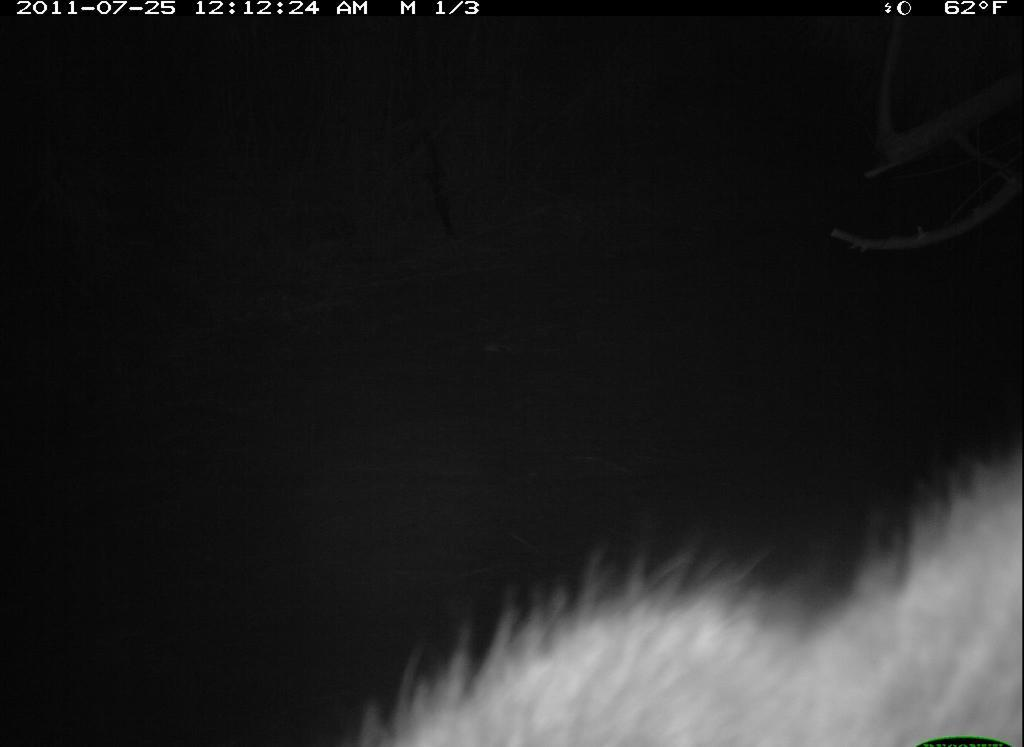raccoon: (317, 437, 1024, 747)
